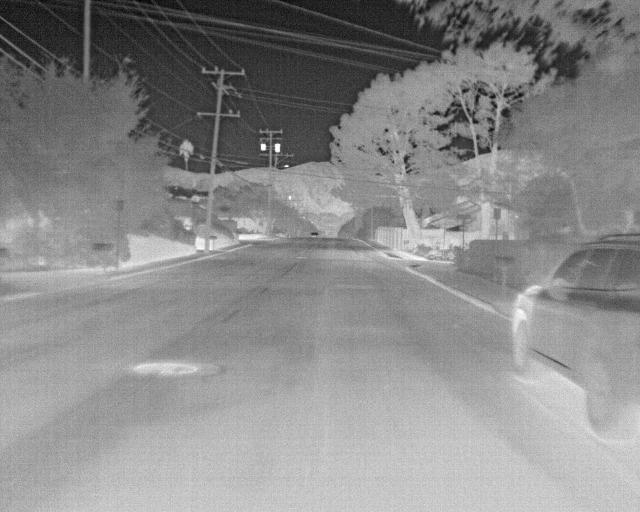car: (507, 230, 639, 440)
